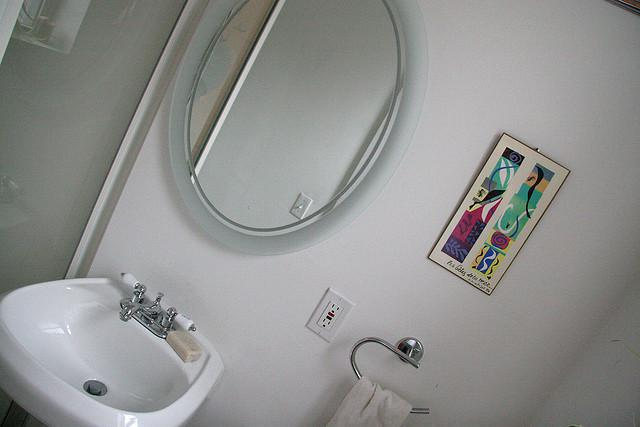Ducha: (0, 0, 241, 307)
Lavamanos: (0, 235, 207, 426)
